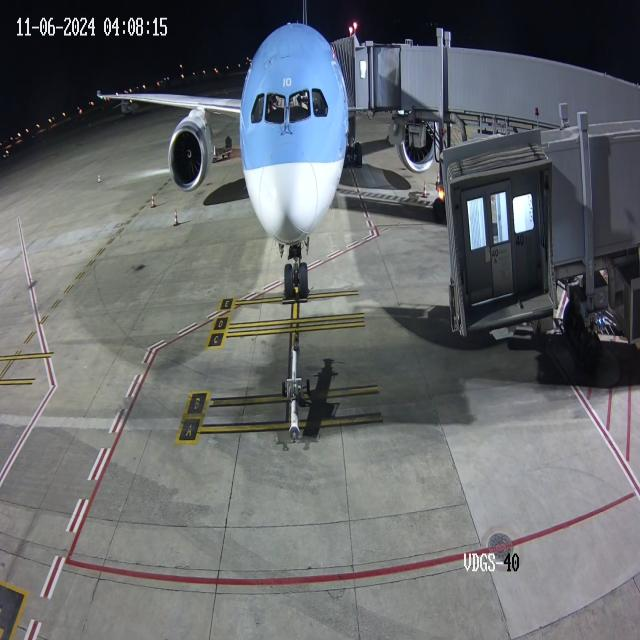bridge: (353, 17, 405, 120)
plane: (96, 22, 350, 301)
window: (249, 84, 330, 128)
